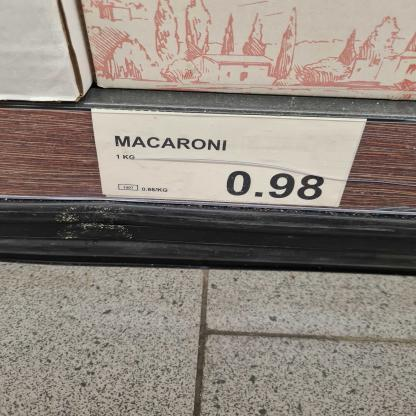prtg: (95, 111, 365, 208)
